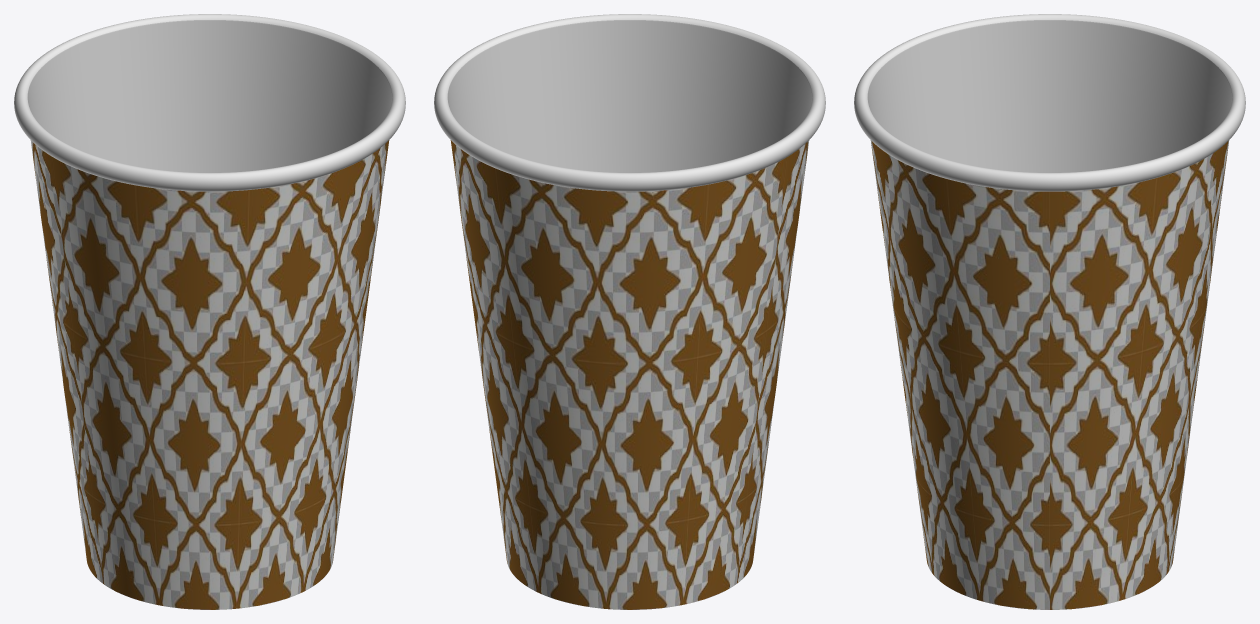
3 renders of one model, left to right at view 1: azimuth 30°, elevation 25°; view 2: azimuth 150°, elevation 25°; view 3: azimuth 270°, elevation 25°, orthographic.
Parts seen in each view (by area): view 1: Part 1, Part 2; view 2: Part 1, Part 2; view 3: Part 1, Part 2.
Part boxes in pixels (x1,y1,x2,y2): Part 1: [30, 140, 389, 609]; Part 2: [14, 14, 405, 191]; Part 1: [450, 140, 809, 609]; Part 2: [434, 14, 825, 191]; Part 1: [870, 140, 1229, 609]; Part 2: [854, 14, 1245, 191].
Size of the model in its own units: 0.1069 by 0.1396 by 0.1069.
Materials: 2 (1 with a texture image).
